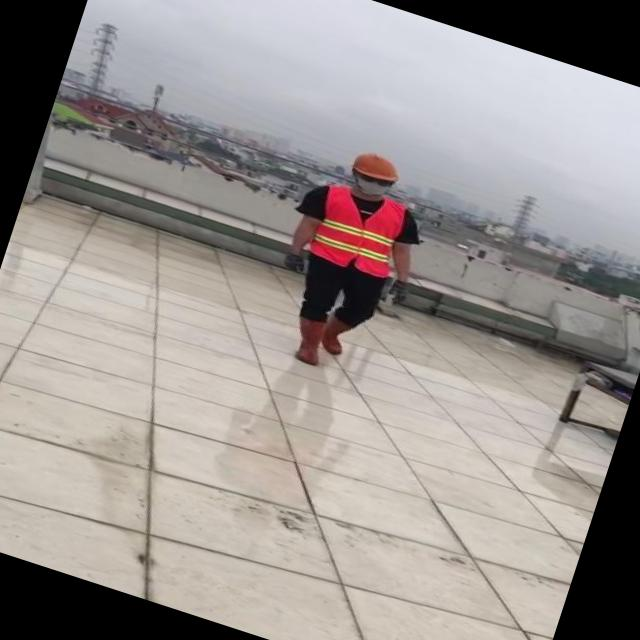hard_hat: (346, 146, 406, 188)
safety_vest: (309, 184, 412, 282)
vehicle: (247, 134, 452, 395)
work_boots: (286, 314, 334, 368), (314, 314, 354, 358)
